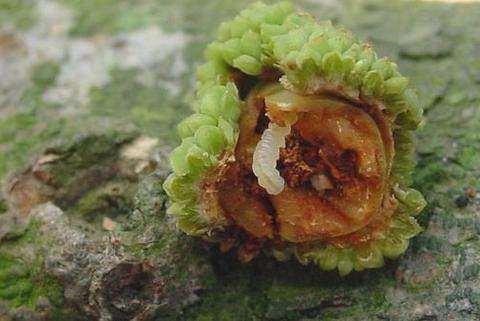Borer: (242, 96, 298, 202)
